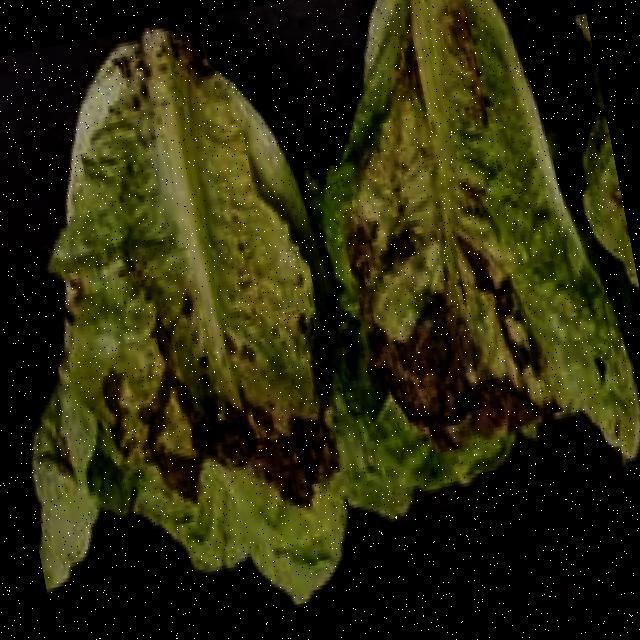Septoria_Blight: (75, 140, 342, 497), (324, 138, 582, 458)
